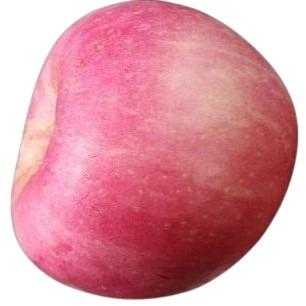fruit: (12, 0, 296, 295)
